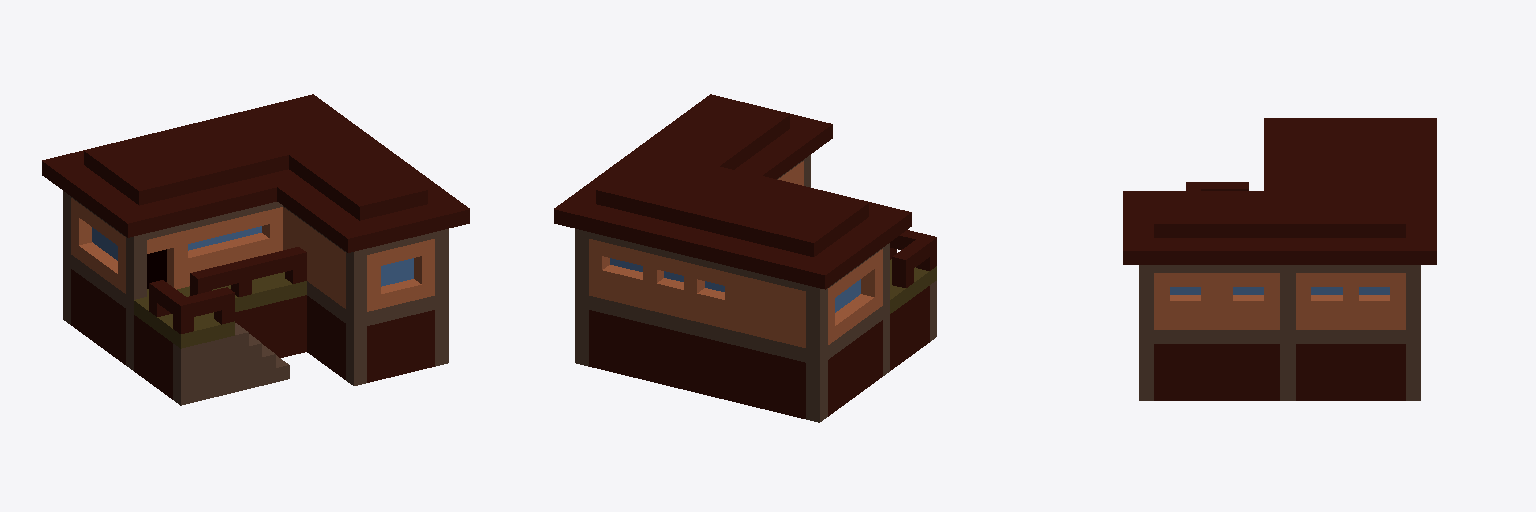
File: guild.obj
3 views of the same model, side by side, from view 1: azimuth 30°, elevation 25°; view 2: azimuth 150°, elevation 25°; view 3: azimuth 270°, elevation 25° (orthographic).
Size of the model in its own units: 10.53 by 6.32 by 10.53.